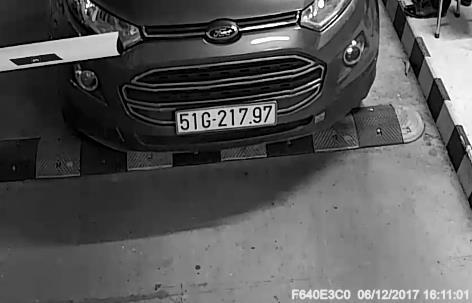License-plate: (167, 95, 286, 143)
